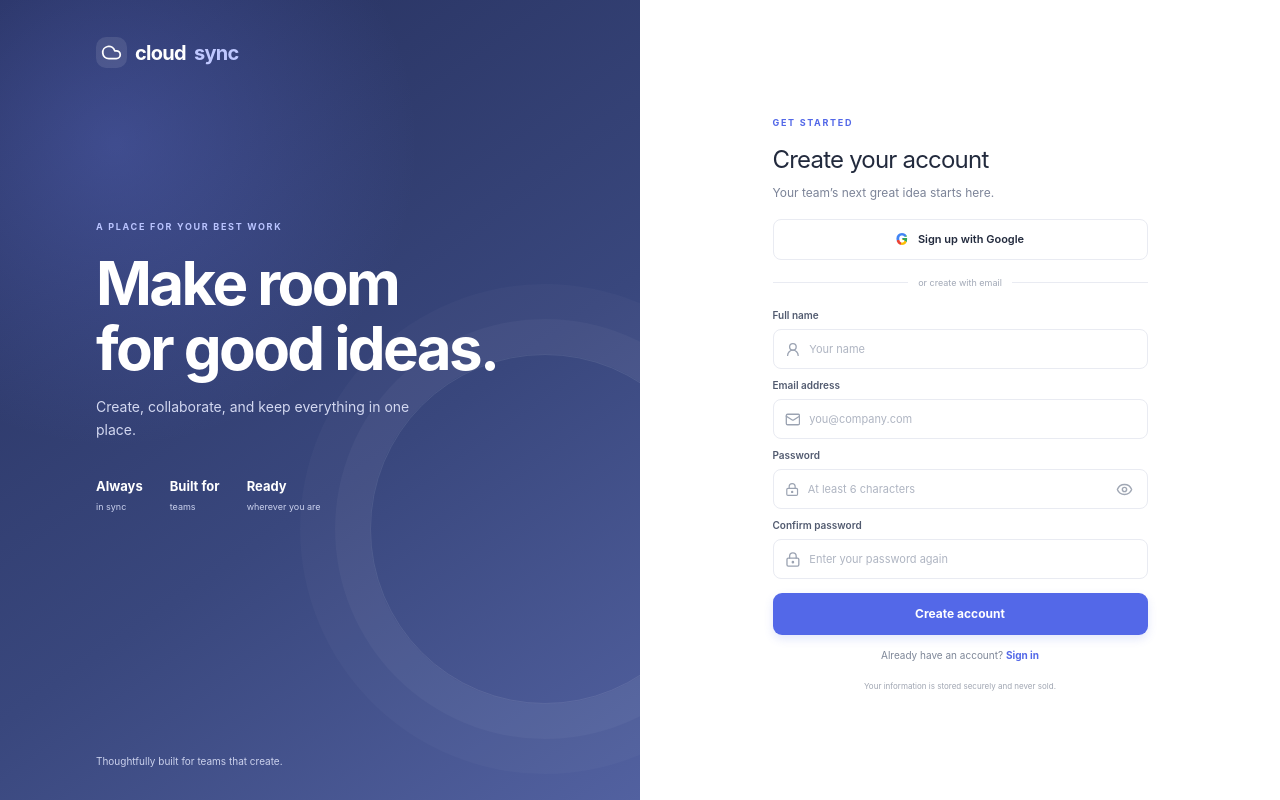
it: authentication screens › shows a clear error when password confirmation does not match
Type "Casey Example" into the field labelled "Full name". click: (972, 349)
box: [809,341,1136,358]
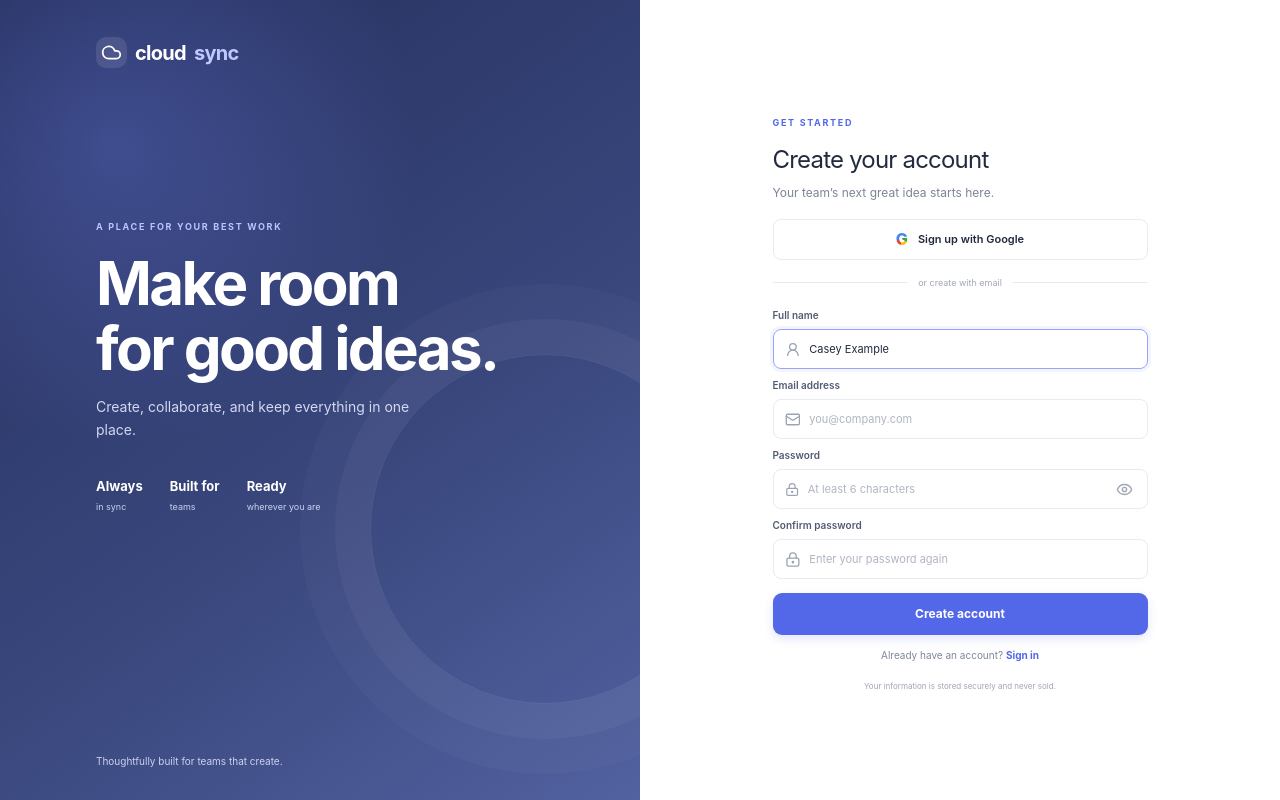
Type "casey@example.com" into the field labelled "Email address". click: (972, 419)
box: [809,411,1136,428]
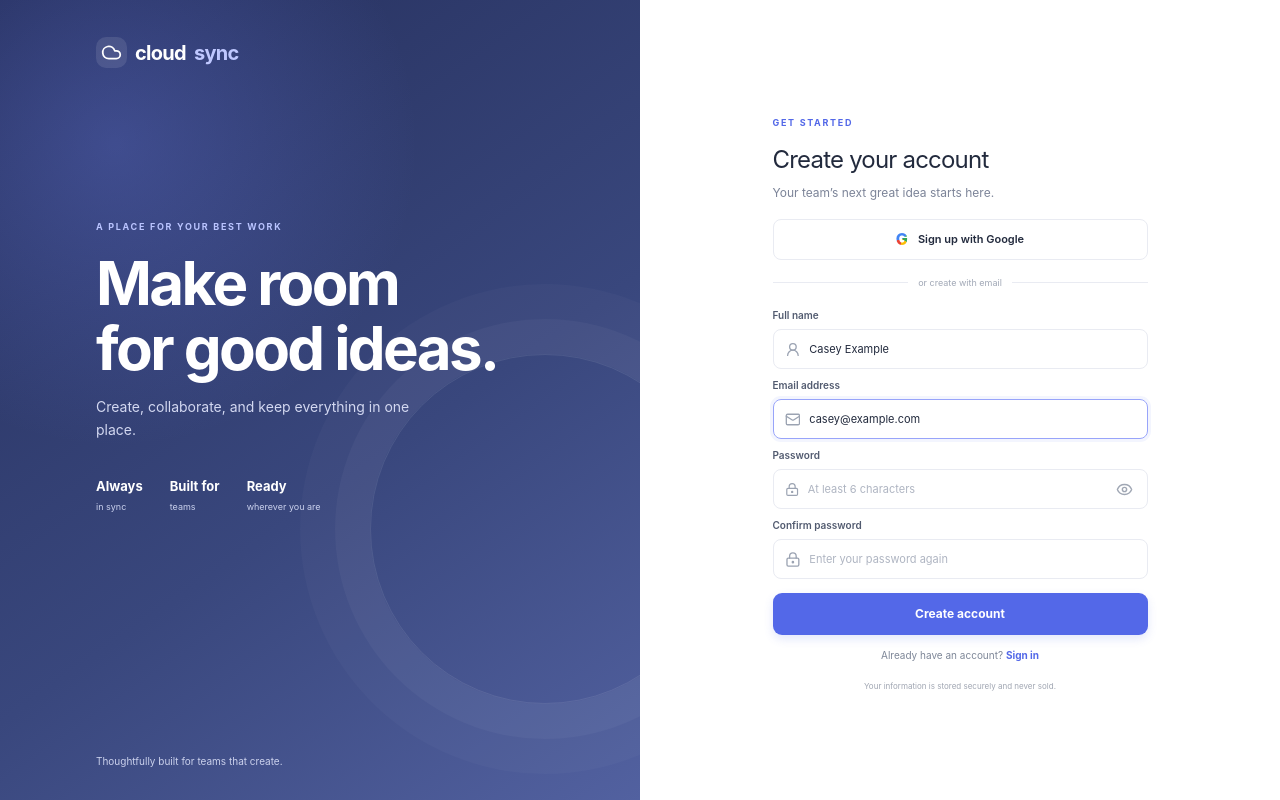
Type "secret-pass" into the password field labelled "Password". click: (956, 489)
box: [808,481,1104,498]
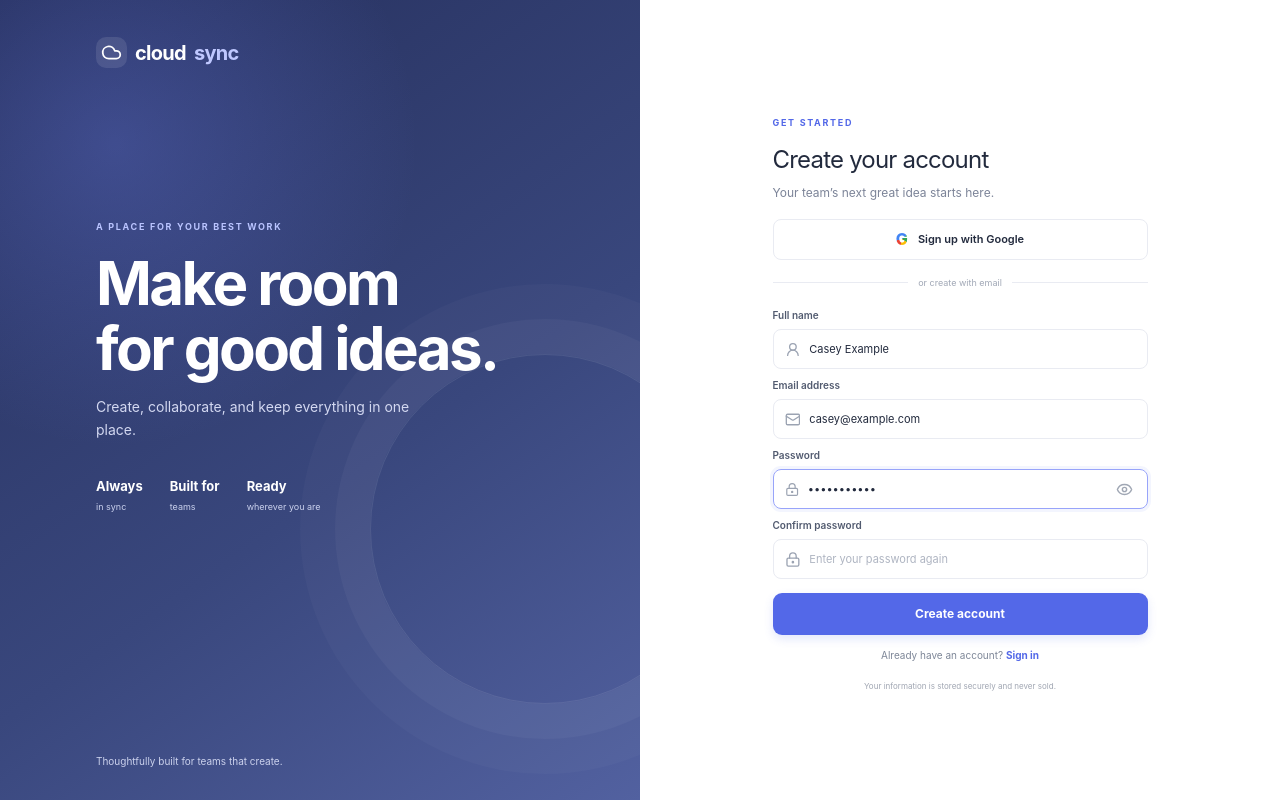
Type "different-pass" into the password field labelled "Confirm password". click: (972, 559)
box: [809,551,1136,568]
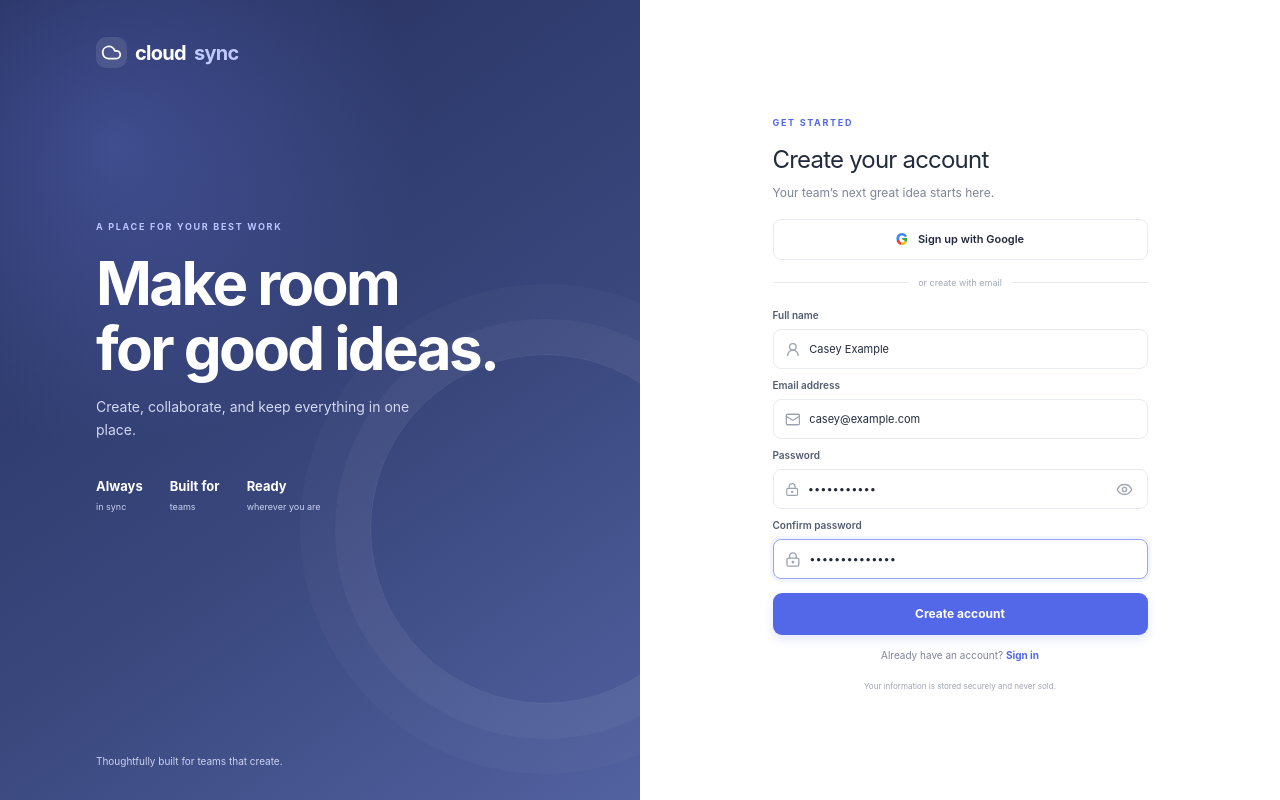
Click the button "Create account". click: (960, 614)
box: [772,593,1148,635]
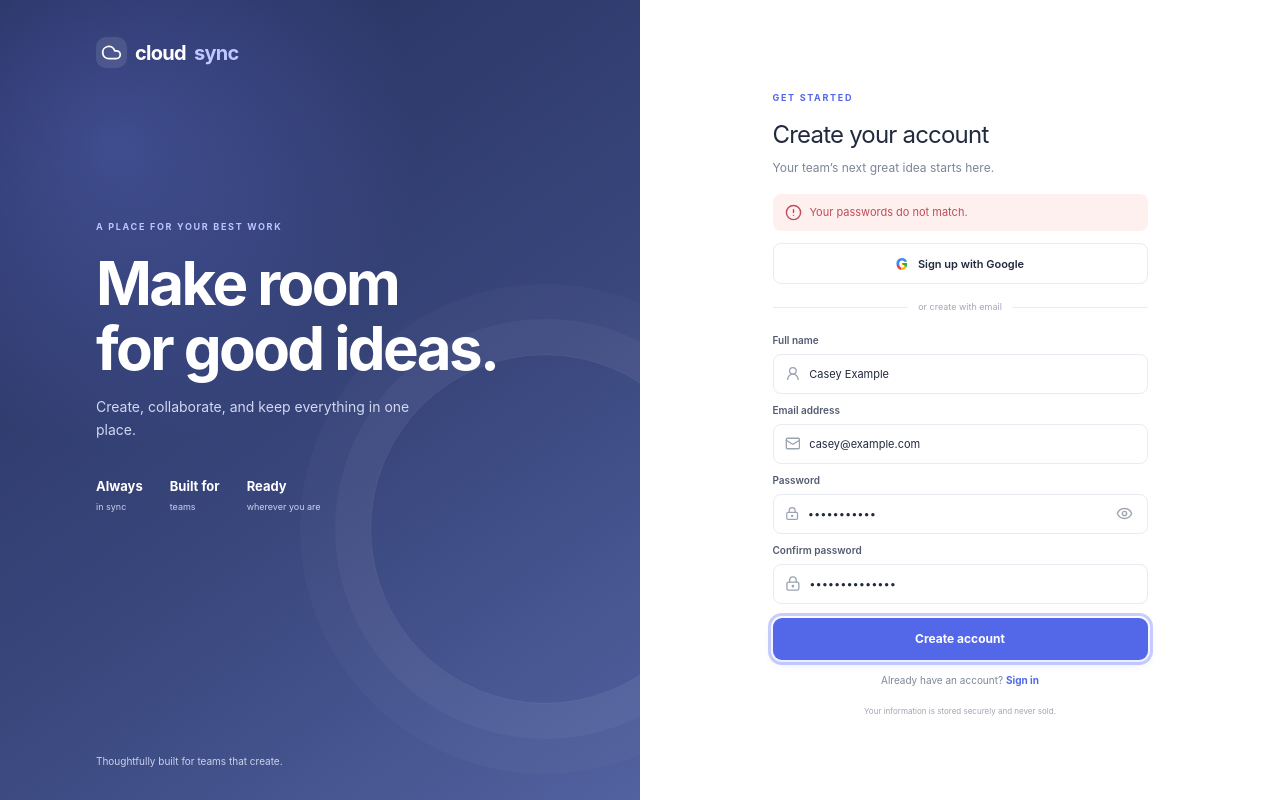
expect the message reads "Your passwords do not match.": met, box [810,205,968,219]
